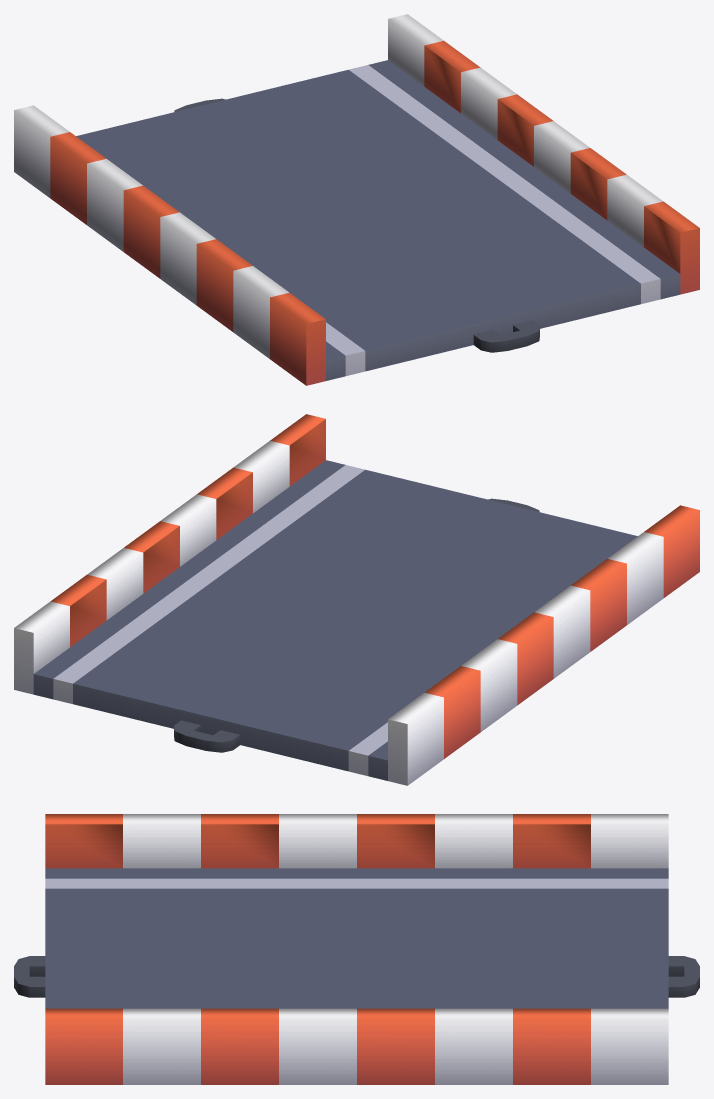
File: track-road-wide-straight.035_lev1.glb
The picture shows the model from 3 angles, top to bottom: view 1: azimuth 30°, elevation 25°; view 2: azimuth 150°, elevation 25°; view 3: azimuth 270°, elevation 25°; orthographic projection. The views are drawn at different scales.
Visible parts, largest first — view 1: track-road-wide-straight.035_lev1; view 2: track-road-wide-straight.035_lev1; view 3: track-road-wide-straight.035_lev1.
Part boxes in pixels (x1,y1,x2,y2): track-road-wide-straight.035_lev1: (14,14,699,385); track-road-wide-straight.035_lev1: (14,414,699,785); track-road-wide-straight.035_lev1: (14,814,699,1084).
Bounding box in the file's own units: 2 × 0.3 × 2.83.
Materials: 1 (1 with a texture image).
